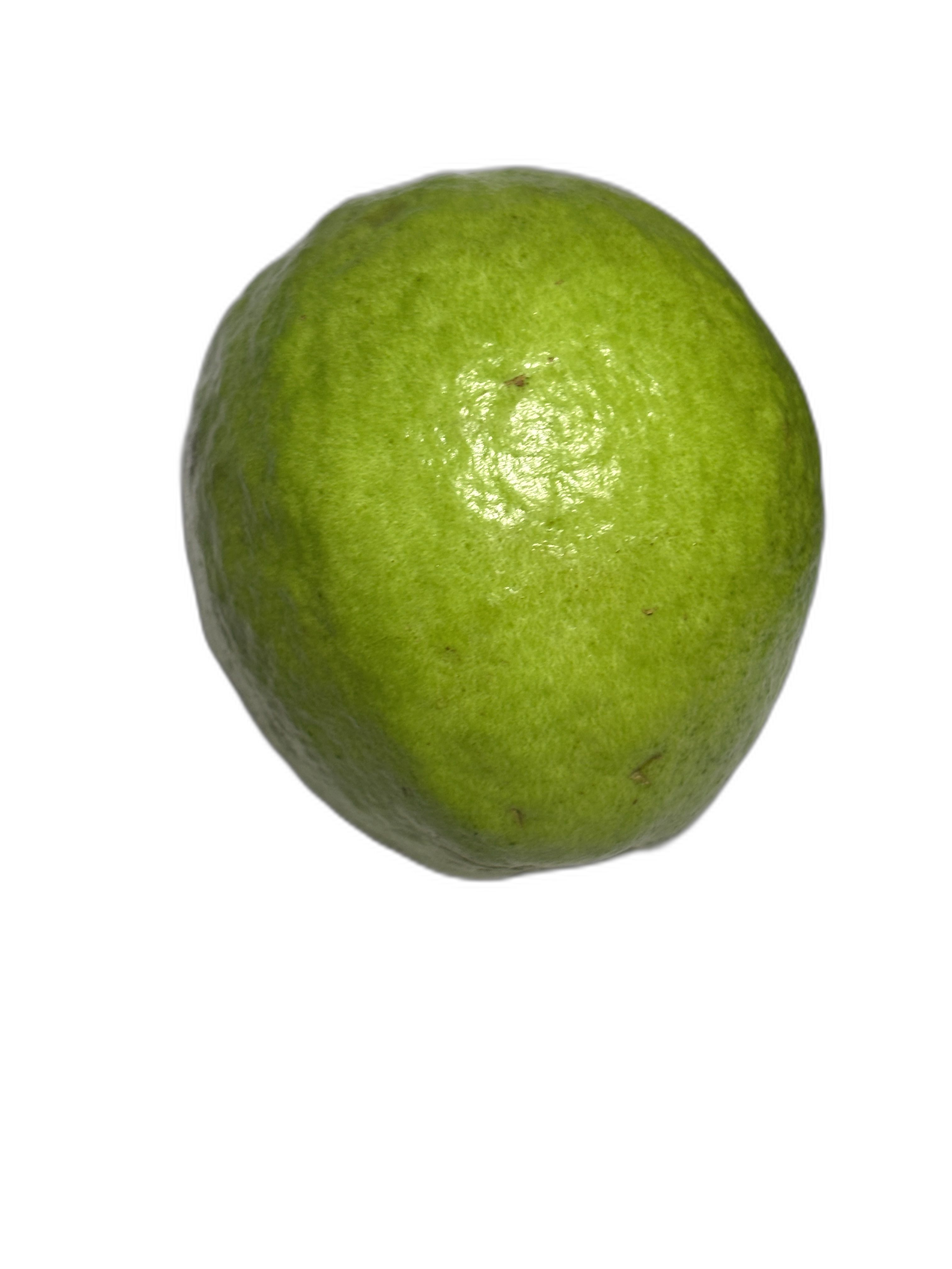guava: (97, 0, 952, 1127)
